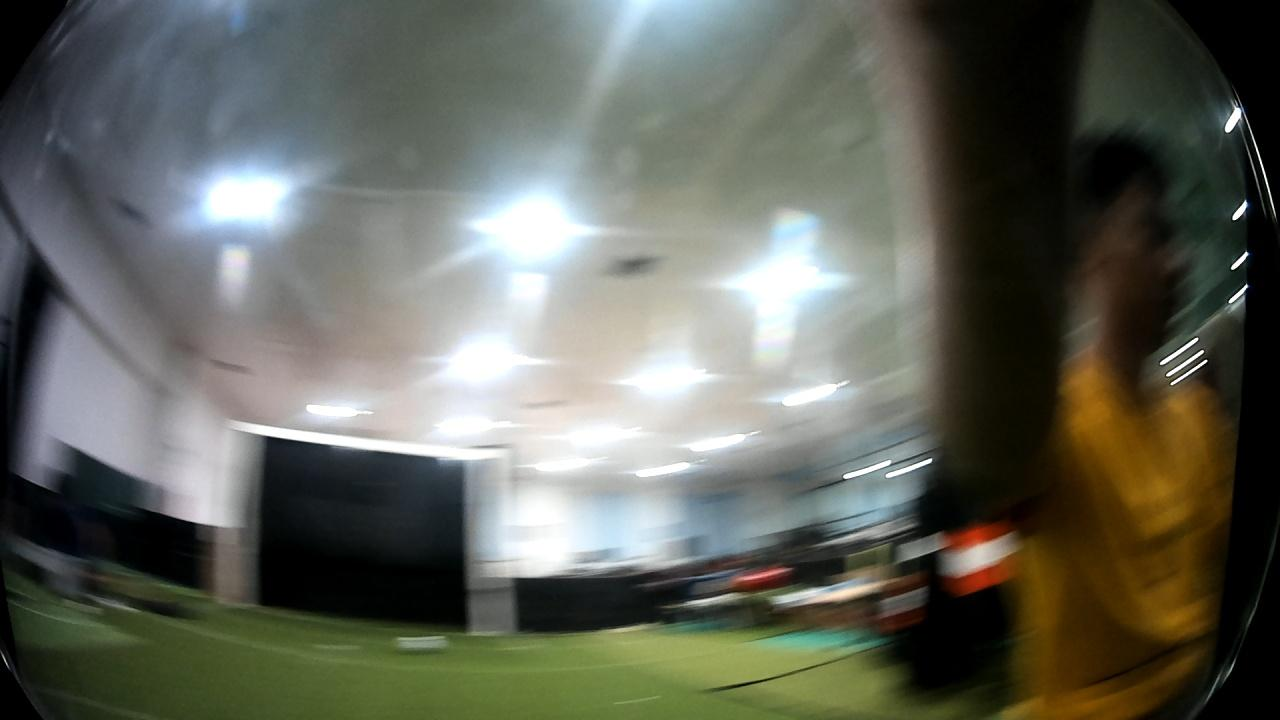ball: (384, 632, 454, 659)
